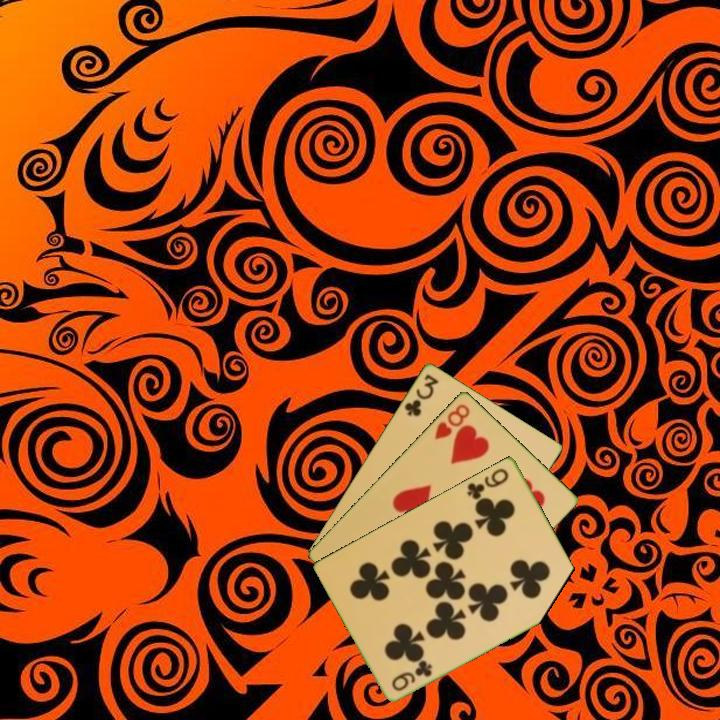3c: (400, 370, 441, 419)
8h: (431, 400, 473, 442)
9c: (463, 464, 512, 502), (388, 656, 436, 694)
